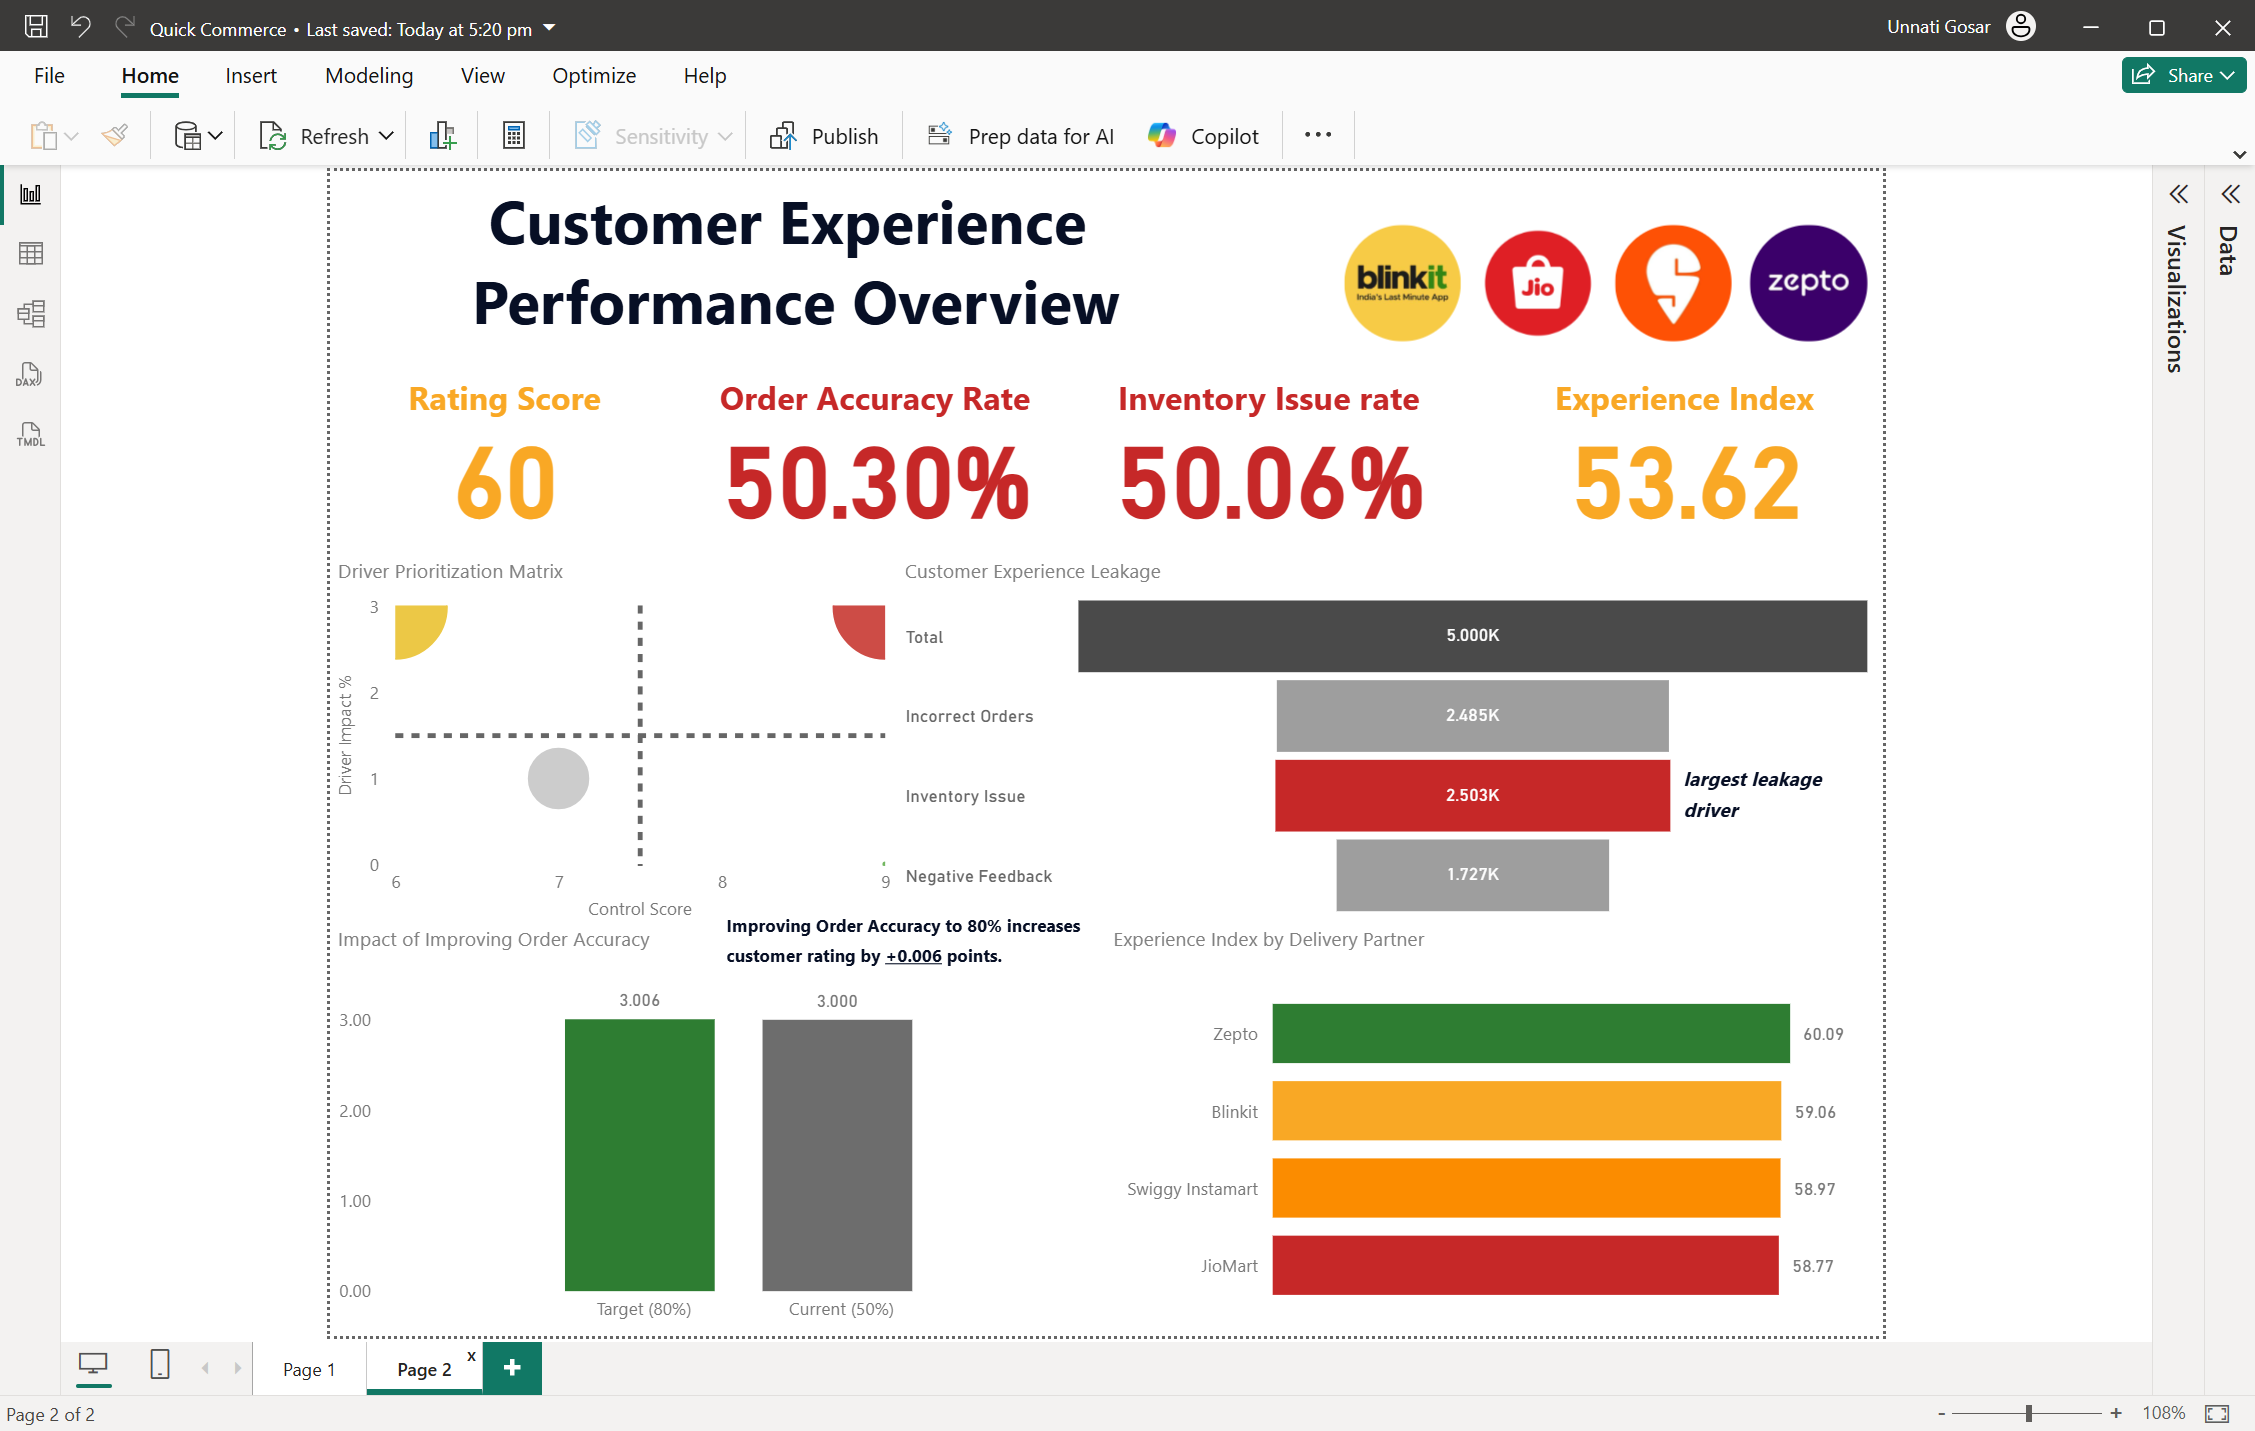

The page's visual inventory and layout, read from the dashboard file:
{"tool":"powerbi","page":{"name":"Page 2","canvas":[960,720],"ordinal":1},"visuals":[{"type":"advanceCardE03760C5AB684758B56AA29F9E6C257B","title":"Rating Score","fields":{"mainMeasure":["quick_commerce agent_performance_summary.Rating Score"]},"box":[1,125.8,214,113],"z":0},{"type":"advanceCardE03760C5AB684758B56AA29F9E6C257B","title":"Order Accuracy Rate","fields":{"mainMeasure":["quick_commerce agent_performance_summary.Order Accuracy Rate %"]},"box":[215,125.8,243.7,113],"z":1000},{"type":"advanceCardE03760C5AB684758B56AA29F9E6C257B","title":"Inventory Issue rate","fields":{"mainMeasure":["quick_commerce agent_performance_summary.INVENTORY Issue Rate %"]},"box":[458.8,125.8,242.8,113],"z":2000},{"type":"advanceCardE03760C5AB684758B56AA29F9E6C257B","title":"Experience Index","fields":{"mainMeasure":["Brand.Experience Index"]},"box":[713.4,125.8,246.7,113],"z":3000},{"type":"scatterChart","title":"Driver Prioritization Matrix","fields":{"X":["Avg(Driver Table.Control Score)"],"Category":["Driver Table.Driver"],"Y":["Driver Table.Driver Impact %"],"Size":["Driver Table.Driver Impact %"]},"box":[0,238.8,350.8,227.9],"z":4000},{"type":"funnel","title":"Customer Experience Leakage","fields":{"Y":["quick_commerce agent_performance_summary.Total","quick_commerce agent_performance_summary.In Correct Orders","quick_commerce agent_performance_summary.Orders with Inventory Issue","quick_commerce agent_performance_summary.Orders with Negative Feedback"]},"box":[350.8,238.8,609.4,227.9],"z":5000},{"type":"clusteredColumnChart","title":"Impact of Improving Order Accuracy","fields":{"Category":["Accuracy Comparison.Scenario"],"Y":["Accuracy Comparison.Scenario Rating"]},"box":[0,466.7,479.6,253.7],"z":6000},{"type":"clusteredBarChart","title":"Experience Index by Delivery Partner","fields":{"Category":["quick_commerce agent_performance_summary.agent_name"],"Y":["quick_commerce agent_performance_summary.Experience Index"]},"box":[479.6,466.7,480.6,253.7],"z":7000},{"type":"ChicletSlicer1448559807354","fields":{"Category":["Brand.Column1"],"Image":["Brand.Column2"]},"box":[615.3,0,344.8,143.7],"z":8000},{"type":"textbox","box":[831.3,359.7,126.8,50.5],"z":9000},{"type":"textbox","box":[0,0,565.8,125.8],"z":10000},{"type":"textbox","box":[239.8,449.8,239.8,58.5],"z":11000}]}

Visuals, with their boxes on the page's 960x720 design canvas (x1, y1, x2, y2). These are canvas units, not pixel positions in the 2255x1431 screenshot, which may show the page scaled, cropped or inside an application window:
"Rating Score" advanceCardE03760C5AB684758B56AA29F9E6C257B: box(1, 126, 215, 239)
"Order Accuracy Rate" advanceCardE03760C5AB684758B56AA29F9E6C257B: box(215, 126, 459, 239)
"Inventory Issue rate" advanceCardE03760C5AB684758B56AA29F9E6C257B: box(459, 126, 702, 239)
"Experience Index" advanceCardE03760C5AB684758B56AA29F9E6C257B: box(713, 126, 960, 239)
"Driver Prioritization Matrix" scatterChart: box(0, 239, 351, 467)
"Customer Experience Leakage" funnel: box(351, 239, 960, 467)
"Impact of Improving Order Accuracy" clusteredColumnChart: box(0, 467, 480, 720)
"Experience Index by Delivery Partner" clusteredBarChart: box(480, 467, 960, 720)
ChicletSlicer1448559807354 - Brand.Column1 x Brand.Column2: box(615, 0, 960, 144)
textbox: box(831, 360, 958, 410)
textbox: box(0, 0, 566, 126)
textbox: box(240, 450, 480, 508)
